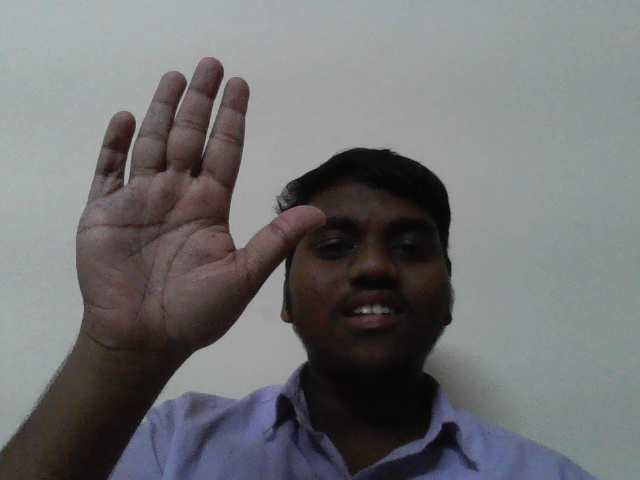Hello: (56, 47, 328, 348)
